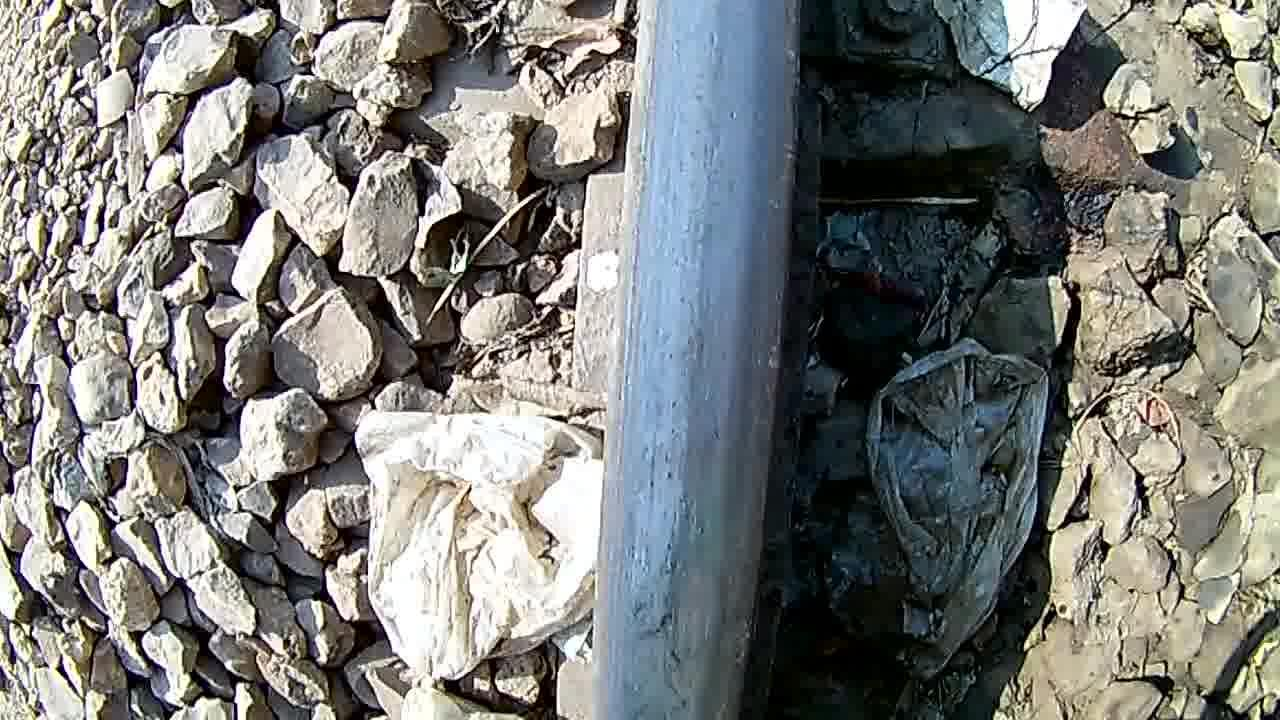bolt_missing: (602, 483, 759, 720)
